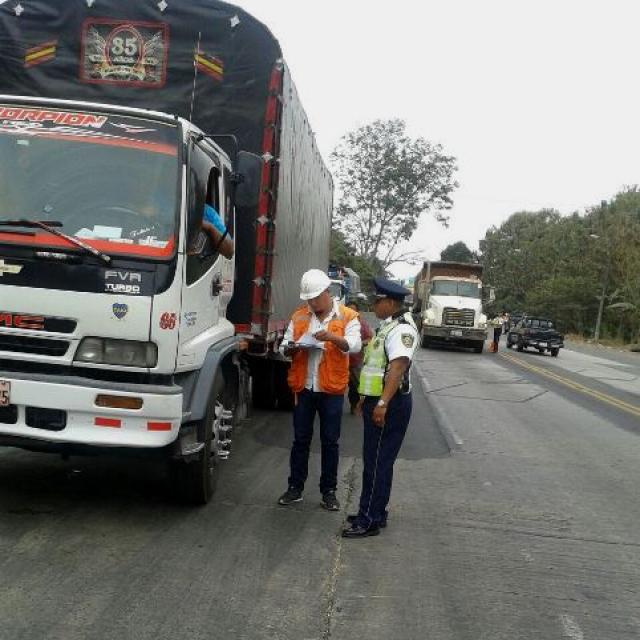CMT: (512, 310, 562, 355)
TRUCK: (0, 46, 325, 499), (414, 258, 488, 346)
